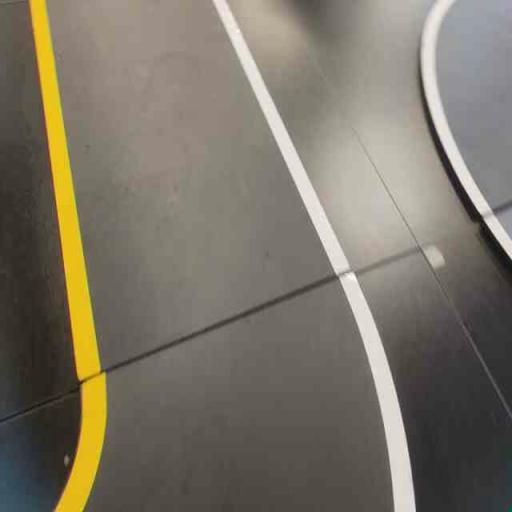left: (52, 253, 437, 509)
